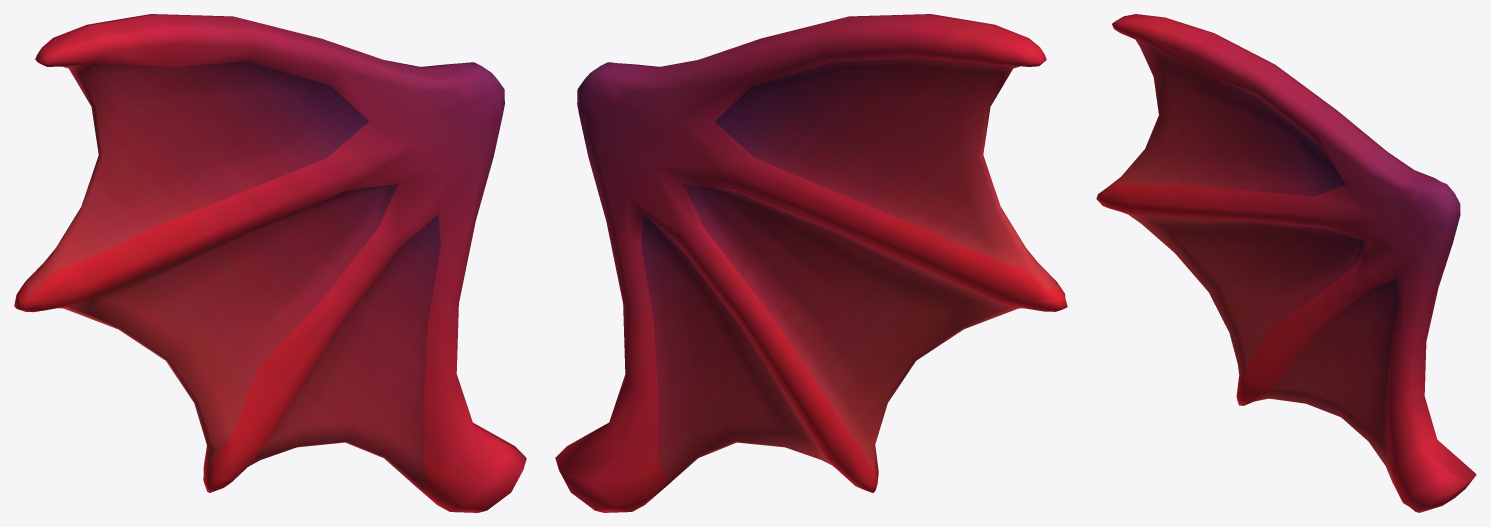
File: horn_one.fbx
3 views of the same model, side by side, from view 1: azimuth 30°, elevation 25°; view 2: azimuth 150°, elevation 25°; view 3: azimuth 330°, elevation 25° (orthographic). The views are drawn at different scales.
Parts seen in each view (by area): view 1: demon_wing_0; view 2: demon_wing_0; view 3: demon_wing_0.
Boxes of the visible parts, x1,y1,x2,y2 form: demon_wing_0: [14, 14, 526, 512]; demon_wing_0: [555, 14, 1067, 512]; demon_wing_0: [1096, 14, 1476, 512].
Bounding box in the file's own units: 1.97 × 2.13 × 0.3255.
